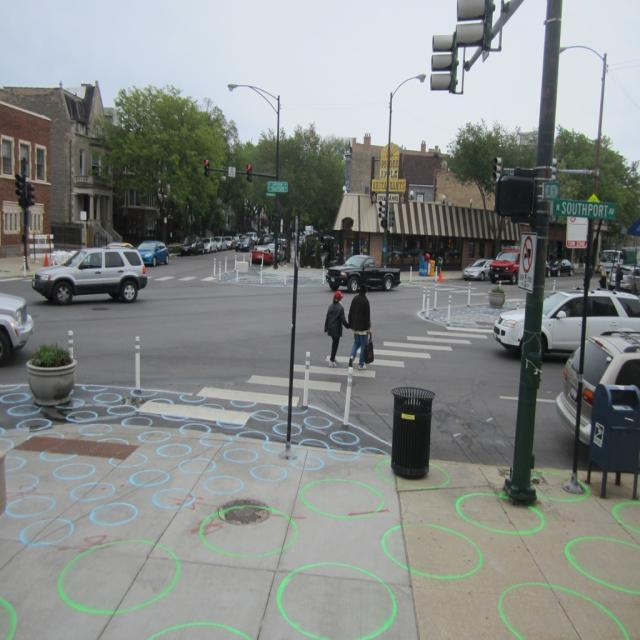off traffic light: (457, 0, 491, 47), (432, 35, 458, 90)
traffic light: (246, 164, 253, 182), (204, 160, 209, 176)
